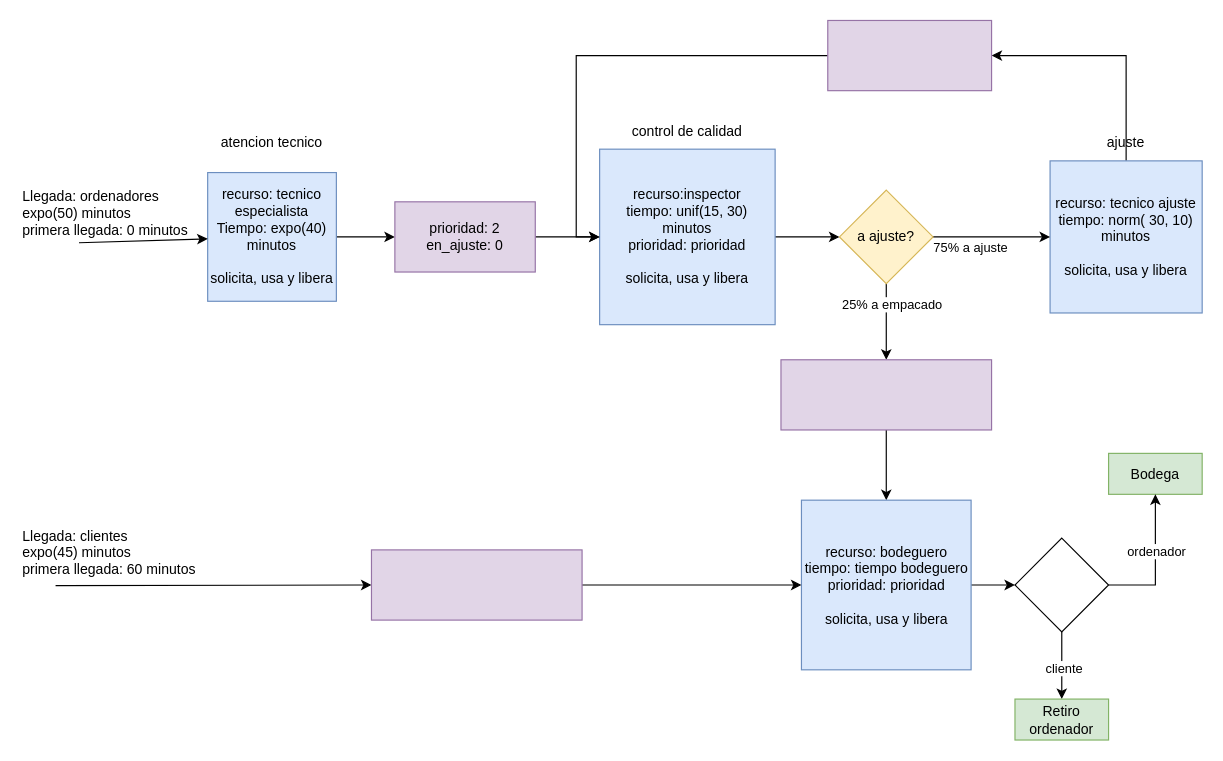
This 1223x761 diagram has some shape labels left out. The centre of each missing label's shape, as x and y in pixels:
"prioridad: 1 en_ajuste: en_ajuste + 1" goes at point (909, 55).
"prioridad: 1 tiempo bodeguero: unif(5, 10) minutos" goes at point (476, 584).
"prioridad: 2 tiempo bodeguero: expo( 10) minutos" goes at point (886, 394).
"tipo entidad?" goes at point (1061, 584).
